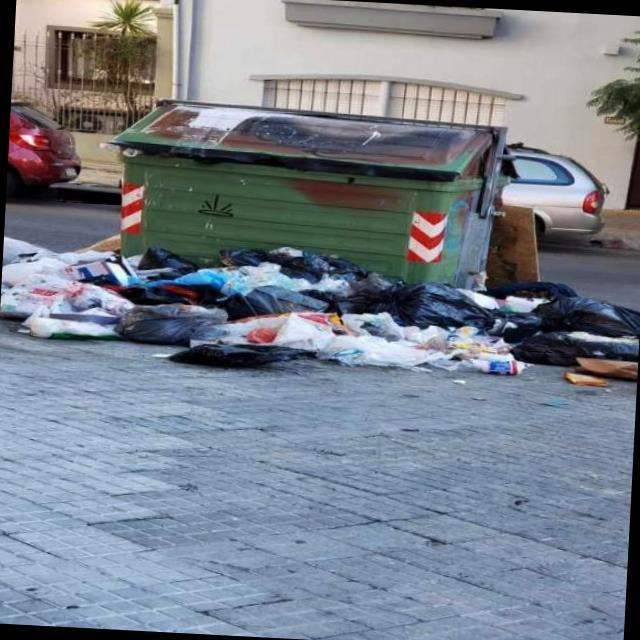garbage: (0, 231, 640, 396)
